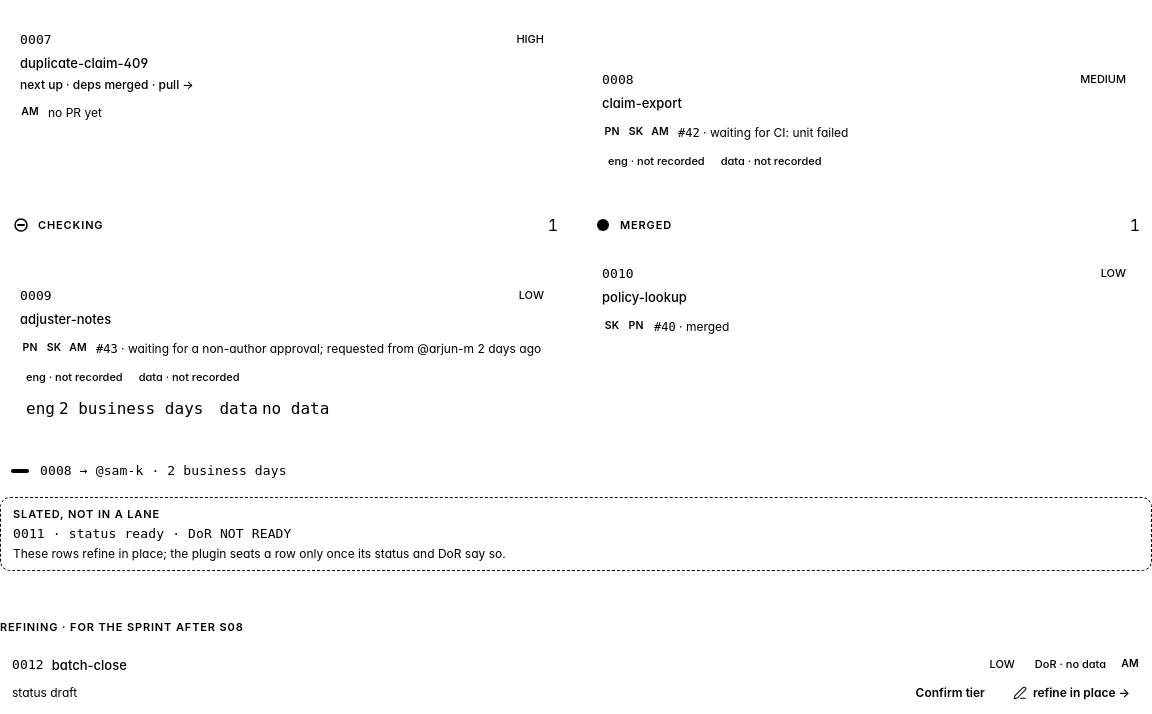
Test: SprintHome: writes re-read before anything moves › a refused verdict renders "Refused by the plugin" and the stderr verbatim, and does not re-read
(page scrolled)
Press v in the button with aria-label "0009 adjuster-notes", box x1=8 y1=274 x2=562 y2=434
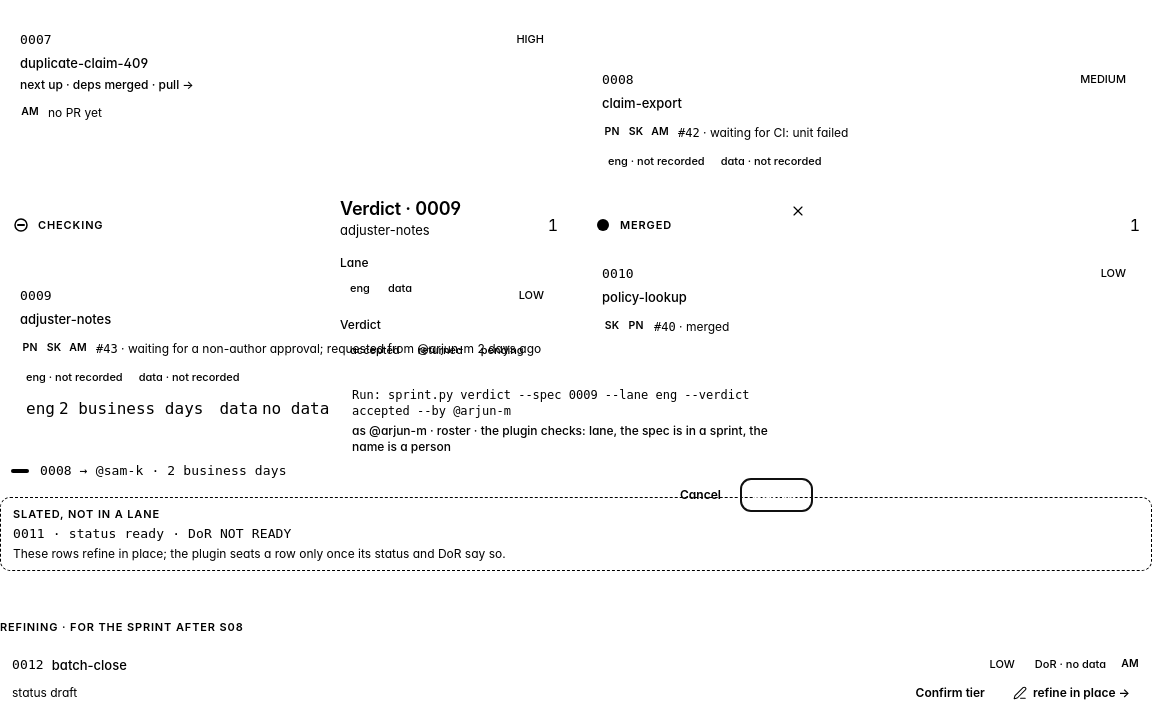
Click the button "Confirm". click: (776, 495)
box: x1=741 y1=479 x2=812 y2=511
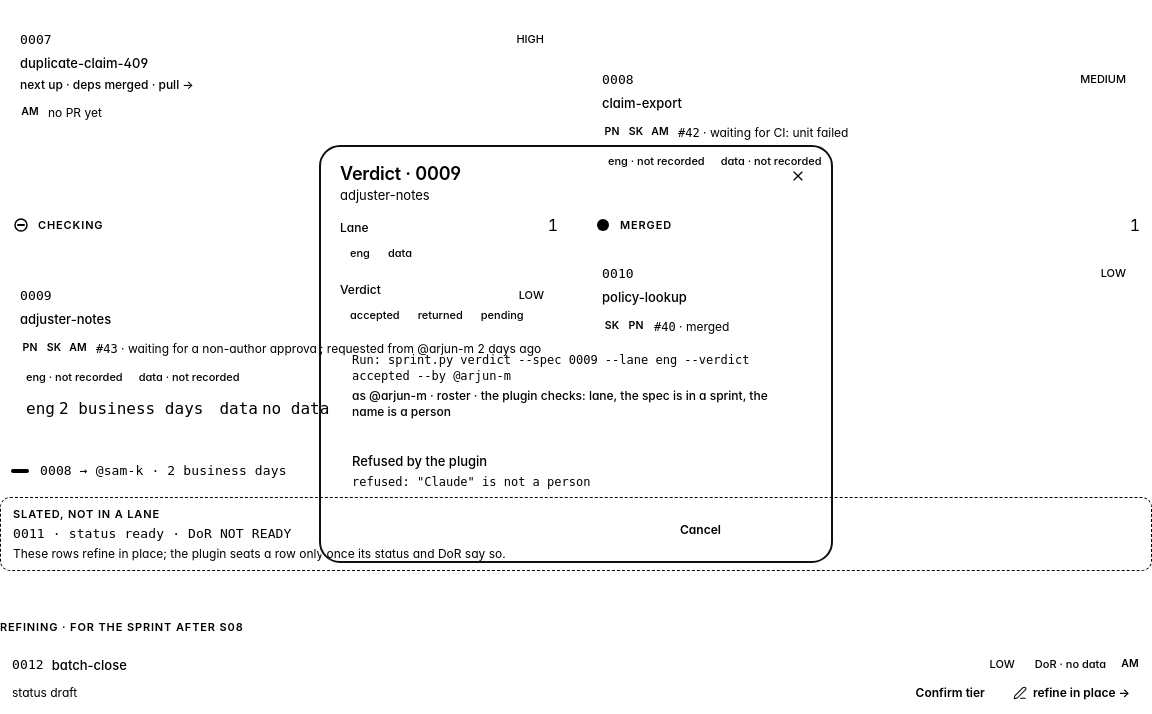
Result: the element with test id "verb-result" shows "Refused by the plugin" at x1=352 y1=453 x2=487 y2=469
Result: the element with test id "verb-result" shows "refused: \"Claude\" is not a person" at x1=352 y1=475 x2=590 y2=489
